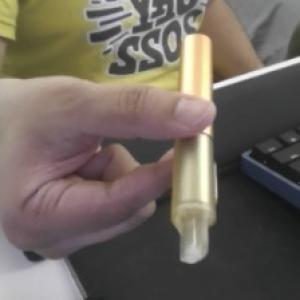Golden-E-Ciggirate: (169, 32, 222, 266)
